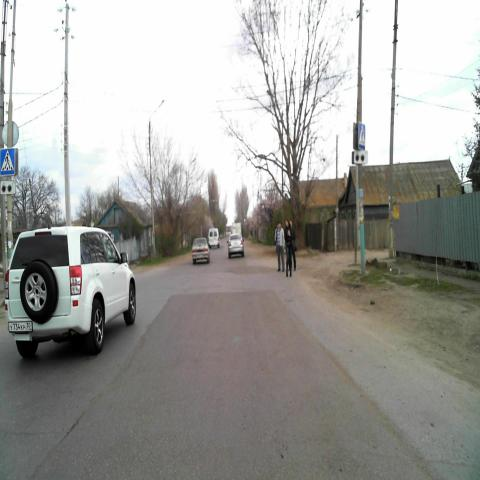8_15: (0, 181, 16, 195), (354, 150, 368, 164)
